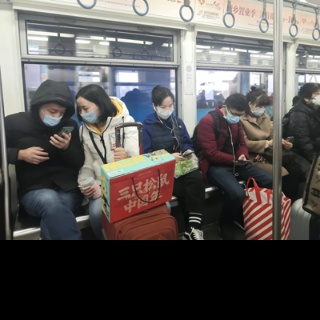with_mask: (40, 104, 64, 127), (76, 104, 100, 126), (157, 100, 175, 120), (224, 109, 244, 125), (252, 104, 265, 117), (309, 91, 320, 104)
